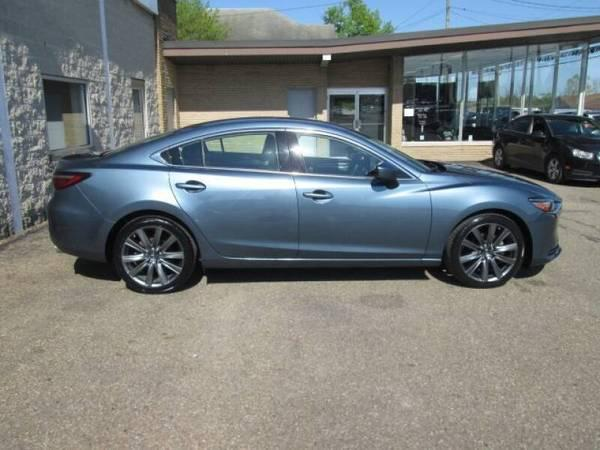Front_Bumper: (526, 213, 560, 265)
Front_Fender: (422, 178, 549, 265)
Front_Right_Door: (292, 175, 431, 267)
Front_Right_Window: (286, 132, 420, 184)
Rear_Bumper: (46, 188, 115, 263)
Rear_Fender: (56, 164, 179, 220)
Rear_Right_Door: (172, 168, 300, 269)
Rear_Right_Window: (169, 129, 292, 172)
Right_Headlight: (528, 198, 563, 213)
Right_Taillight: (52, 174, 89, 194)
Roof: (66, 120, 428, 180)
Wheel: (114, 216, 195, 294), (445, 214, 523, 288)
